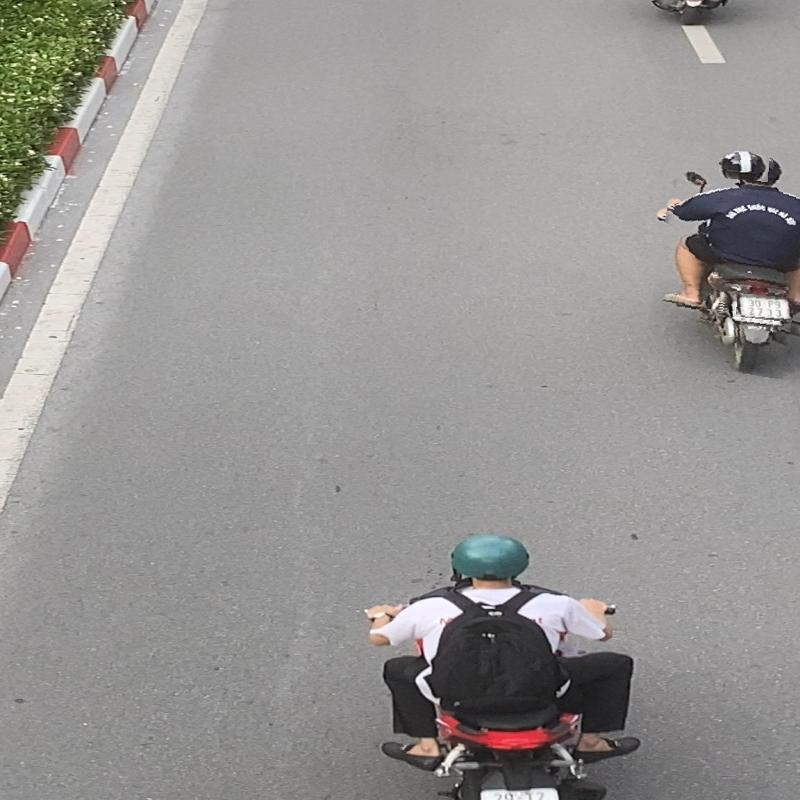helmet: (719, 149, 770, 181)
licenseplate: (736, 294, 794, 322)
motorcyclist: (651, 144, 800, 374)
